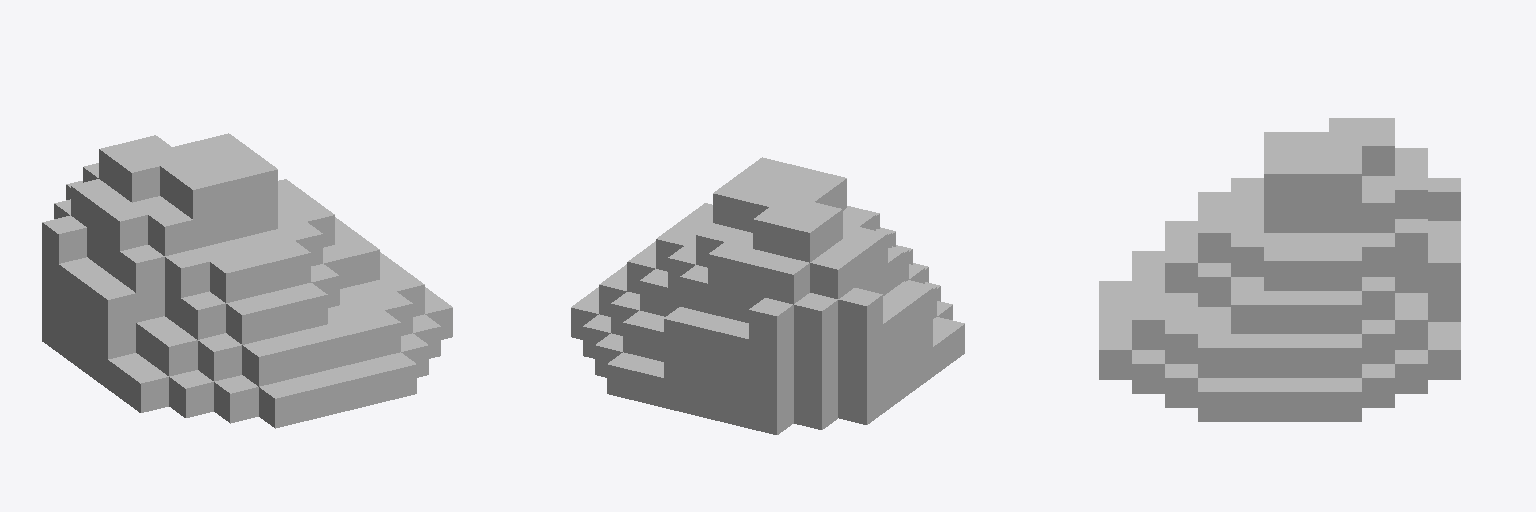
Rendered from Rock.obj.
3 views of the same model, side by side, from view 1: azimuth 30°, elevation 25°; view 2: azimuth 150°, elevation 25°; view 3: azimuth 270°, elevation 25° (orthographic).
Parts seen in each view (by area): view 1: object 1; view 2: object 1; view 3: object 1.
Boxes of the visible parts, box(x1,y1,x2,y2) form: object 1: box(42, 133, 452, 428); object 1: box(571, 157, 964, 434); object 1: box(1099, 118, 1460, 421).
Bounding box in the file's own units: 1.1 × 0.6 × 1.1.